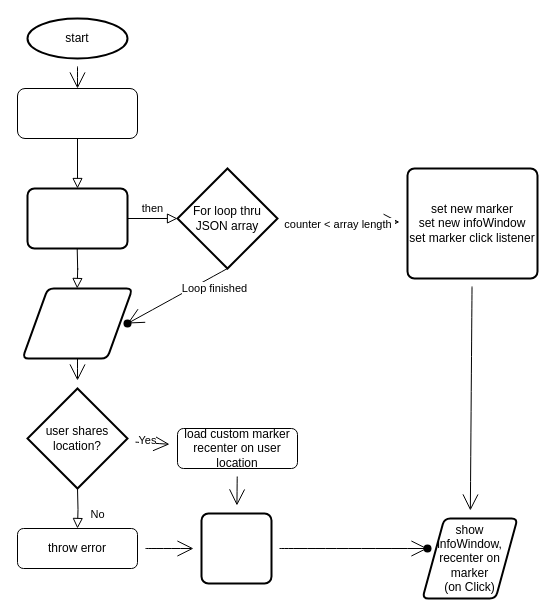
This 556x616 diagram has some shape labels left out. The shapes that lost their labels are listed below. From the top down, each one's box as (x1, y1, x2, y2) in pixels, then its label:
(16, 88, 138, 138): Set default location, make new Map myMap
(26, 187, 128, 249): fetch (async) JSON geolocations
(21, 287, 133, 359): get browser geolocation (on Click)
(200, 512, 272, 584): map fully rendered
